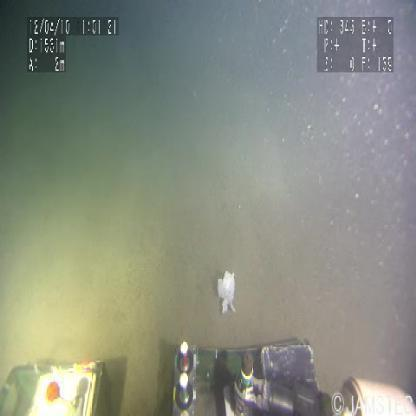Rác: (217, 272, 237, 318)
